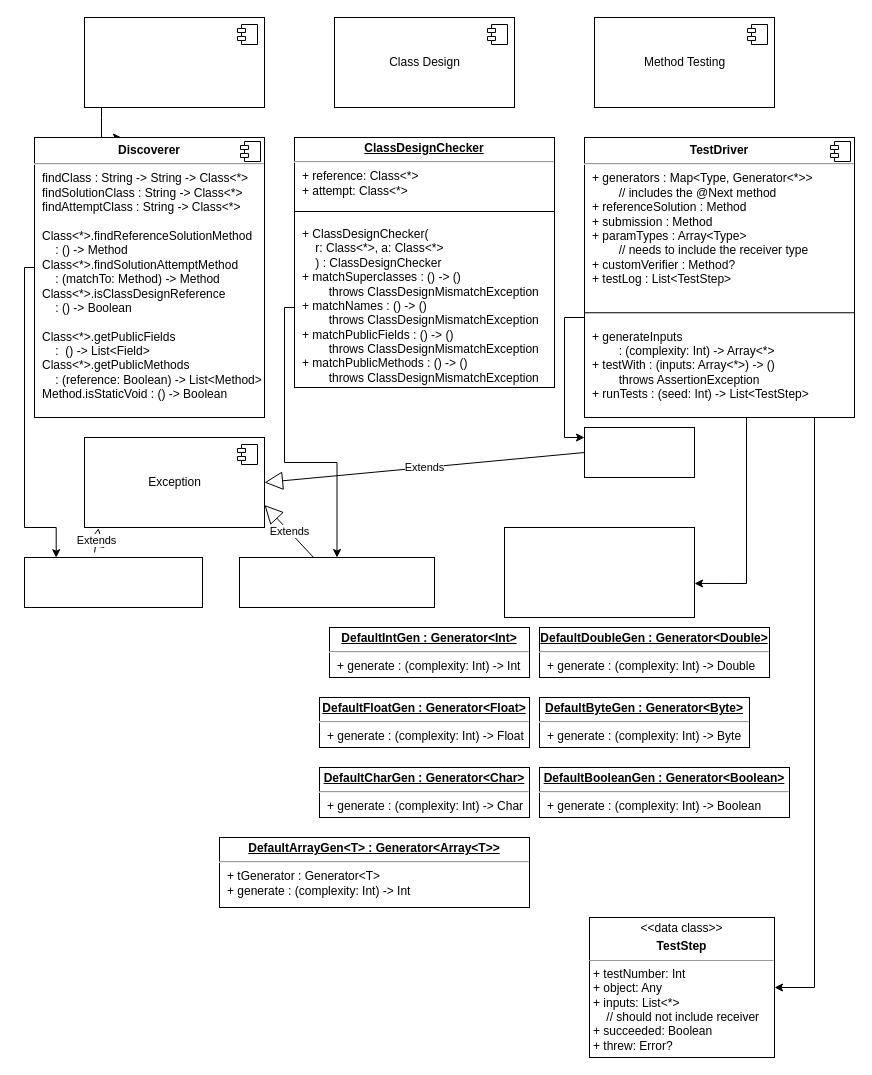
This 872x1075 diagram has some shape labels left out. Each missing label, with the centre of its shape:
<<Interface>> Generator<out T> + T: Type + generate : (complexity: Int) -> T: [599,572]
AssertionException: [639,452]
ClassDesignMismatchException: [336,582]
Discovery: [174,62]
SubmissionMismatchException: [113,582]
